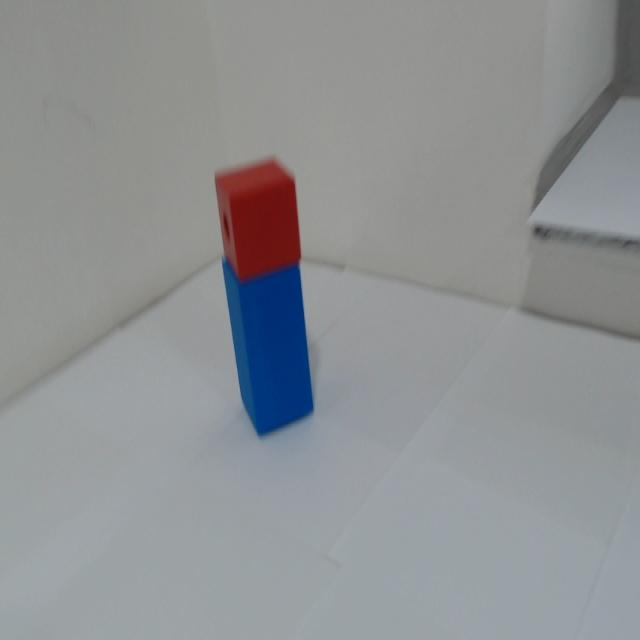cube: (218, 158, 313, 282)
